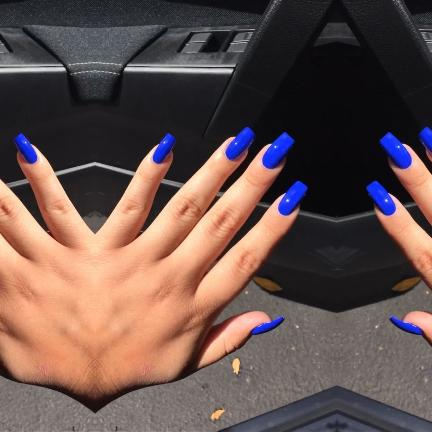Nail: (262, 132, 294, 169), (380, 132, 412, 169), (366, 181, 396, 215), (225, 127, 255, 160), (278, 181, 307, 215), (152, 133, 176, 163), (12, 133, 36, 163), (251, 316, 285, 335), (389, 316, 423, 335), (419, 127, 432, 153)
